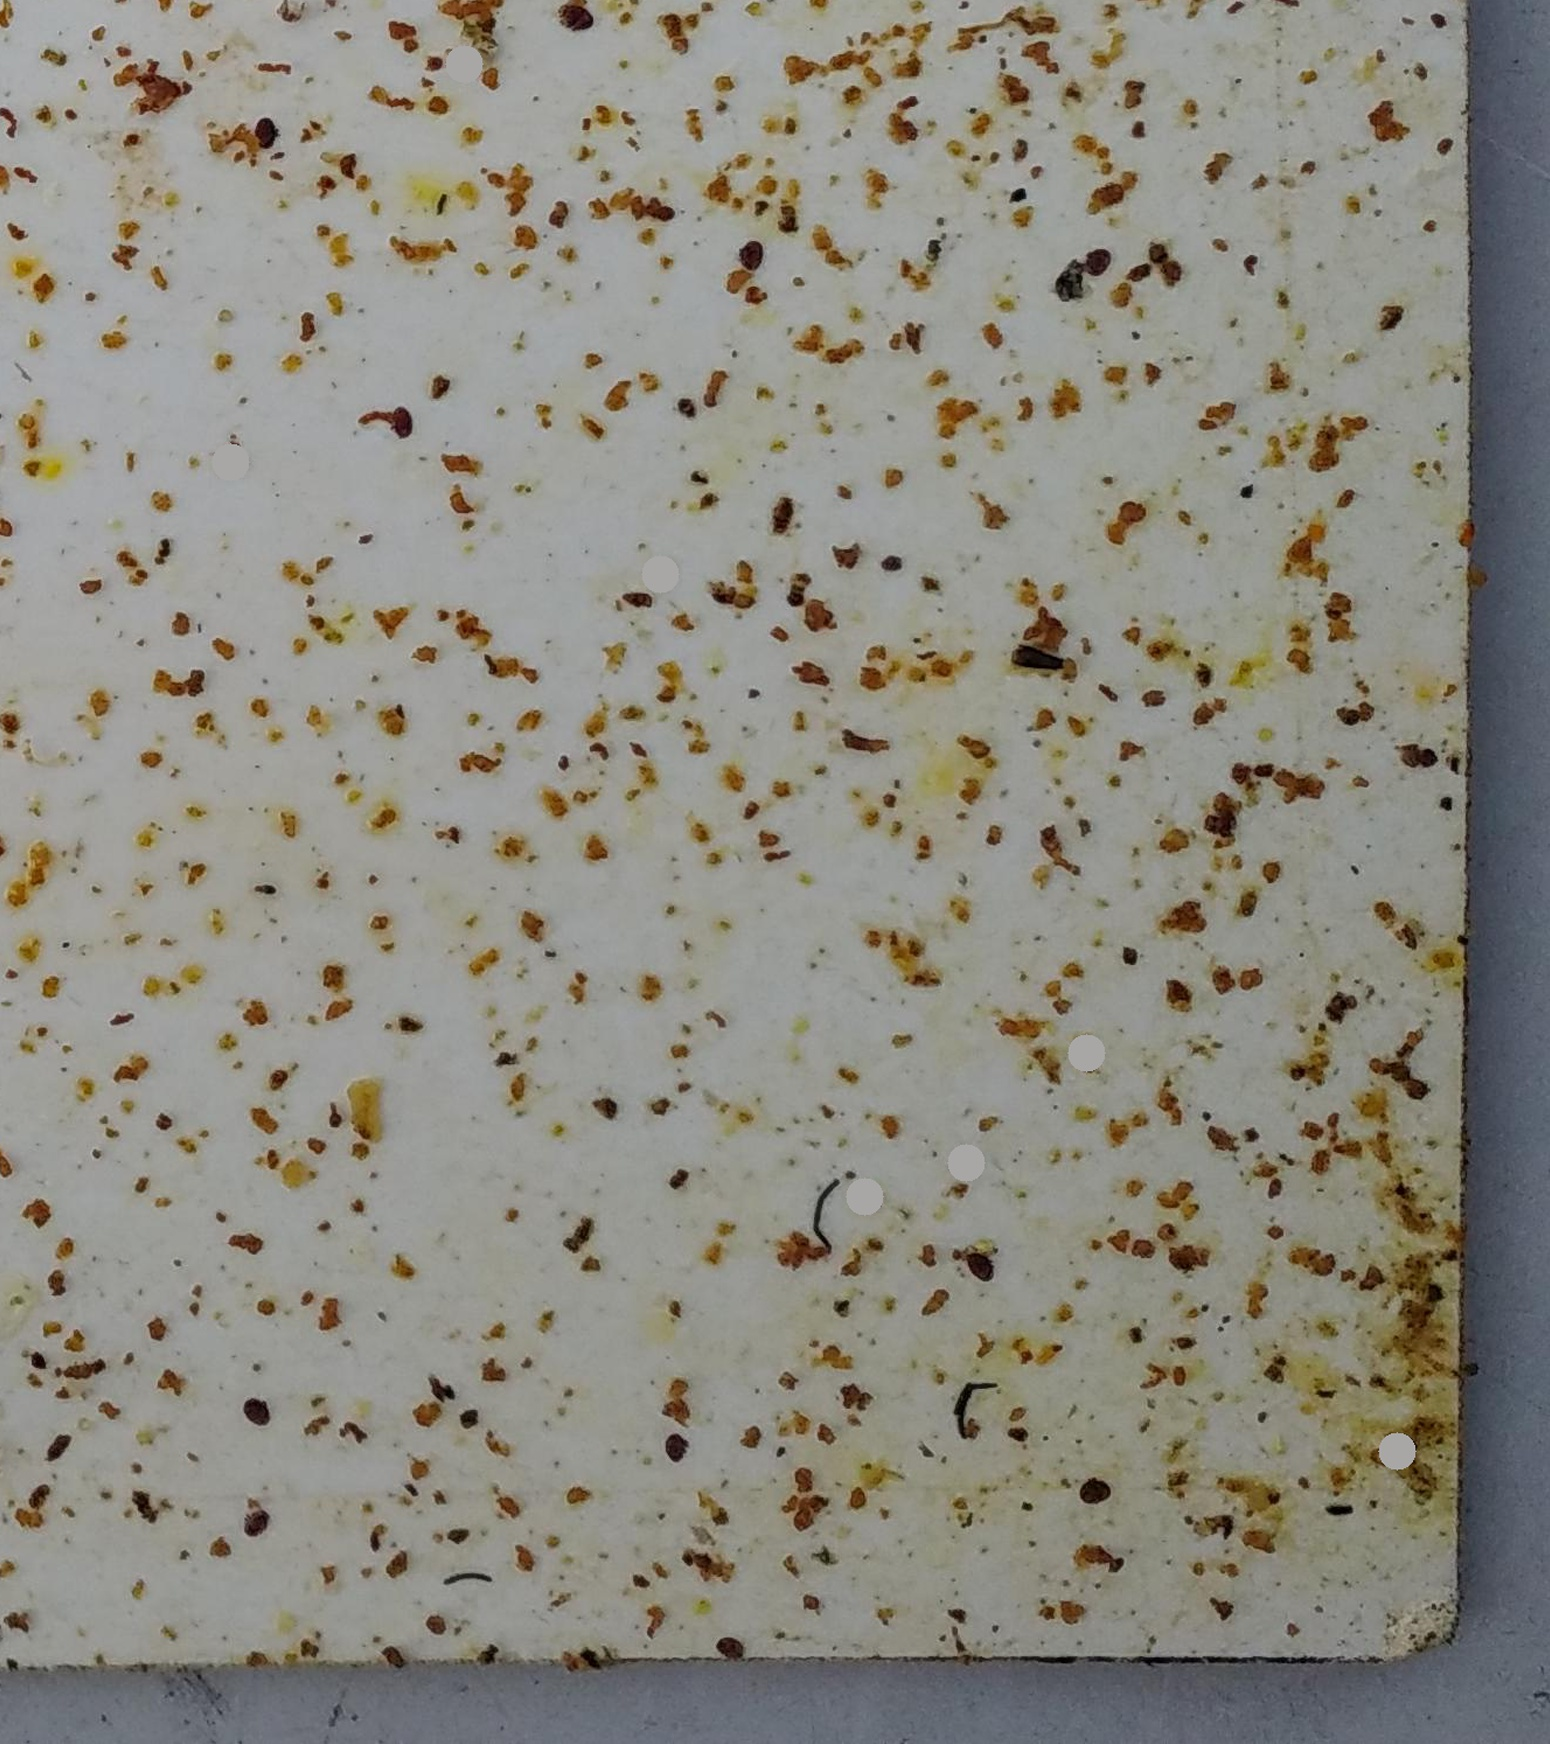Varroa: (563, 6, 592, 36), (714, 1633, 744, 1662), (245, 1508, 274, 1538), (245, 1398, 275, 1427), (663, 1434, 690, 1460), (1083, 242, 1107, 271), (253, 117, 278, 141), (1082, 1473, 1106, 1499), (741, 242, 763, 266), (390, 408, 413, 431), (975, 1256, 990, 1271)
